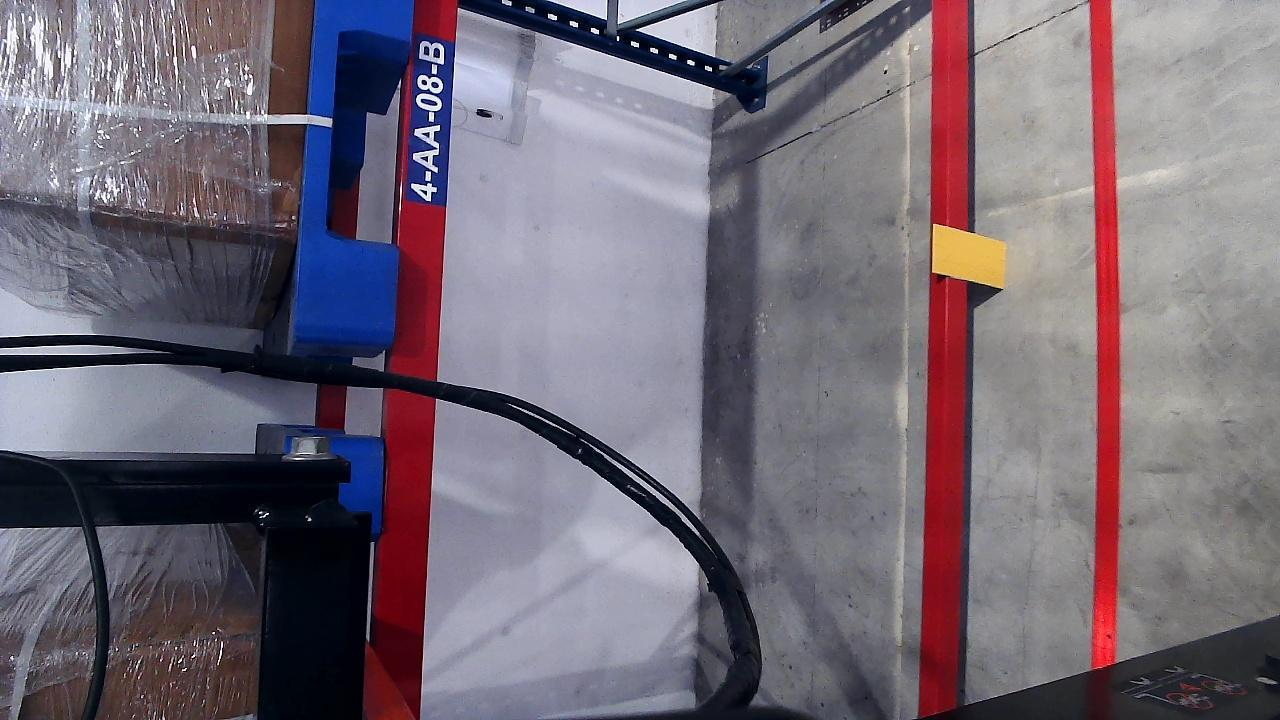red_line: (1078, 0, 1123, 664)
